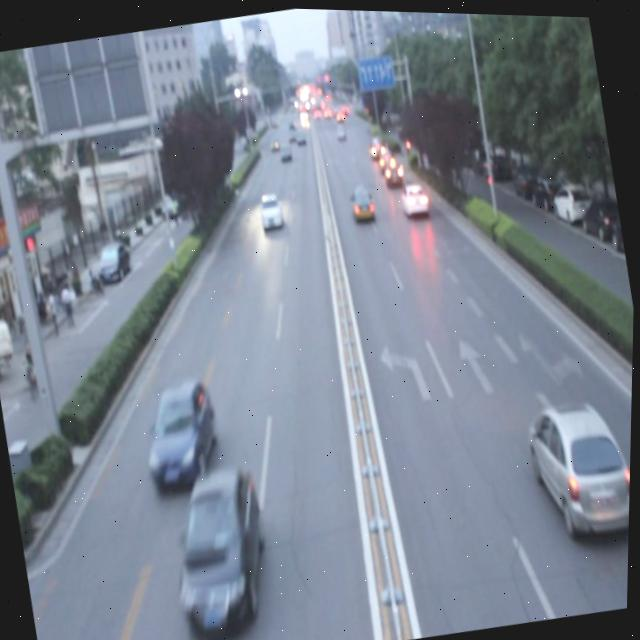car: (160, 461, 279, 640), (524, 387, 633, 541), (136, 376, 227, 493), (398, 176, 431, 217), (255, 189, 286, 231), (347, 180, 377, 219), (381, 154, 405, 185)
